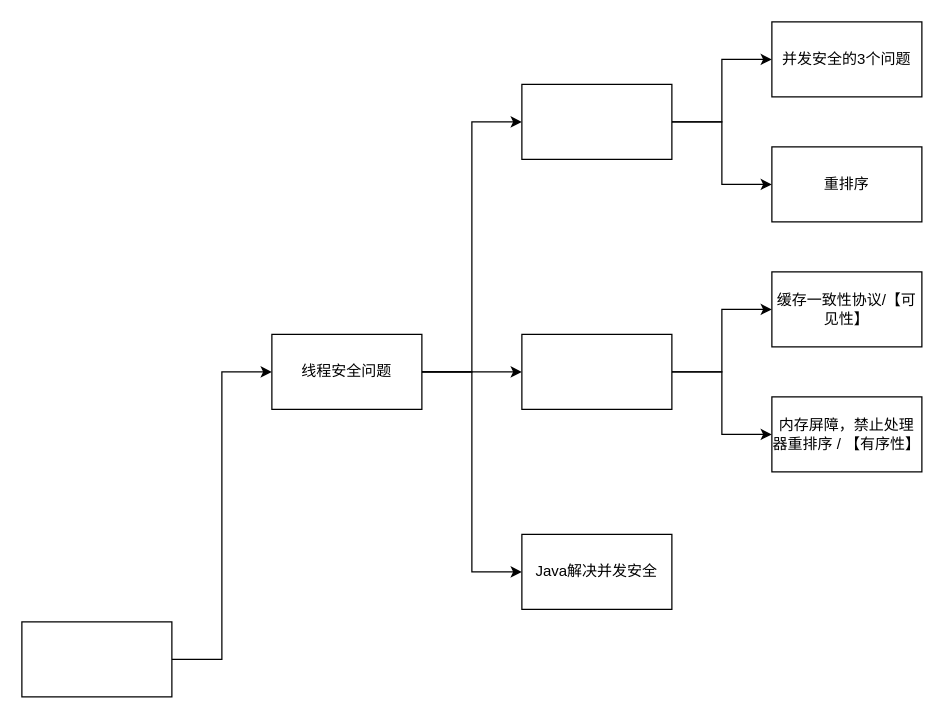
Some shapes in this 944 by 719 pixel diagram are drawn without their labels. Each missing label, with the centre of its shape:
CPU多级缓存及并发安全: point 596,121
硬件层解决并发安全: point 596,371
线程安全: point 96,659
